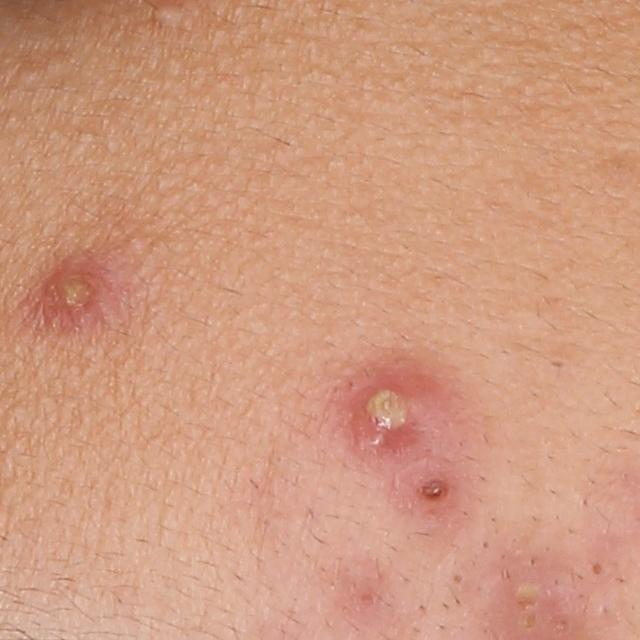comedo: (152, 0, 187, 28), (449, 567, 469, 590), (588, 558, 606, 579), (549, 354, 565, 372)
papule: (407, 470, 454, 512)
pustule: (346, 372, 440, 464), (37, 260, 112, 329)
